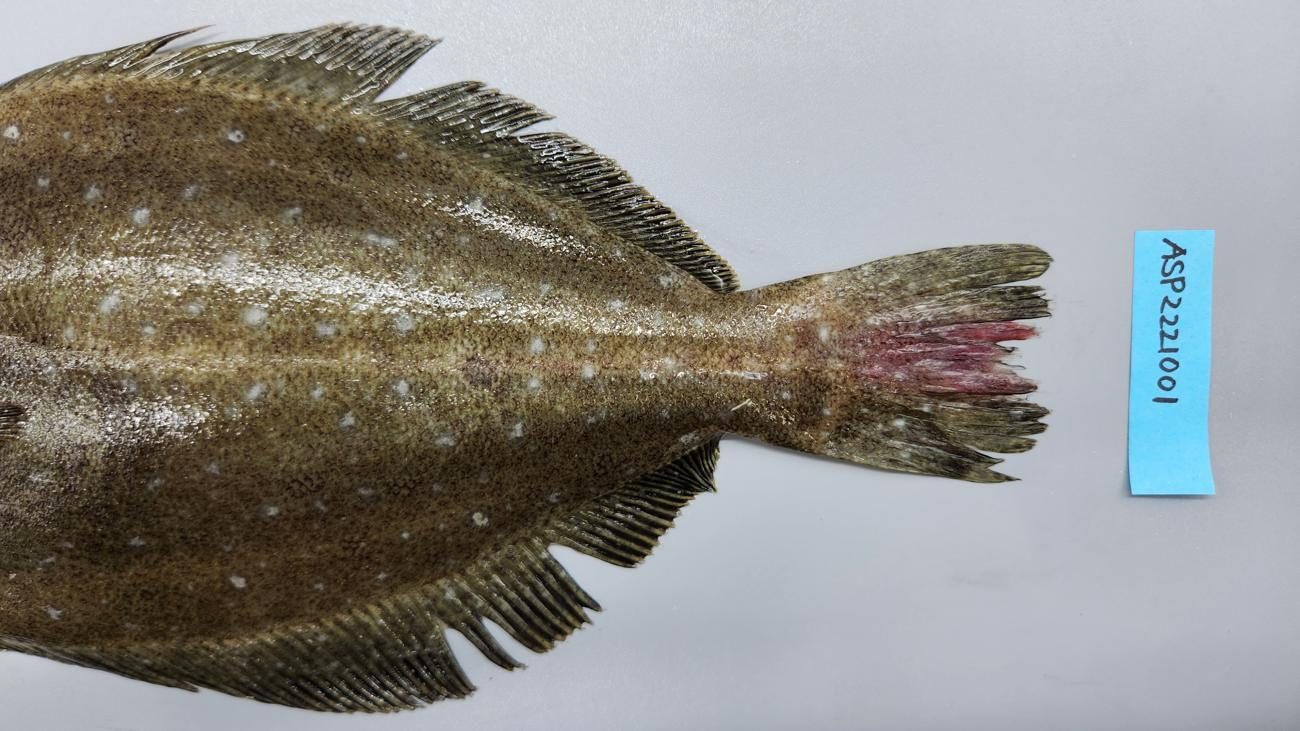SPDYH: (0, 541, 447, 645)
